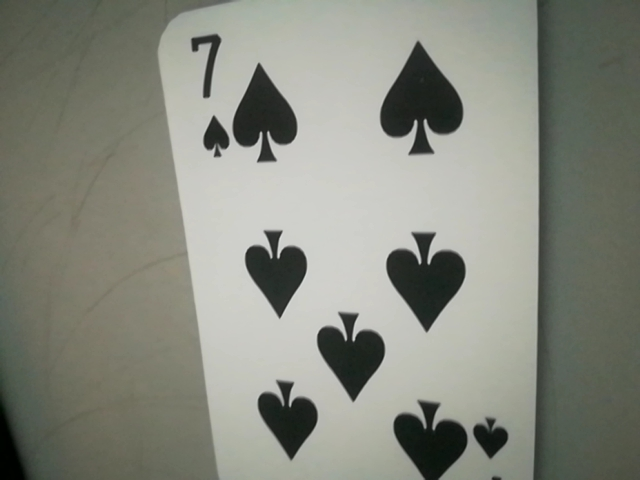ht 7: (189, 30, 231, 157)
